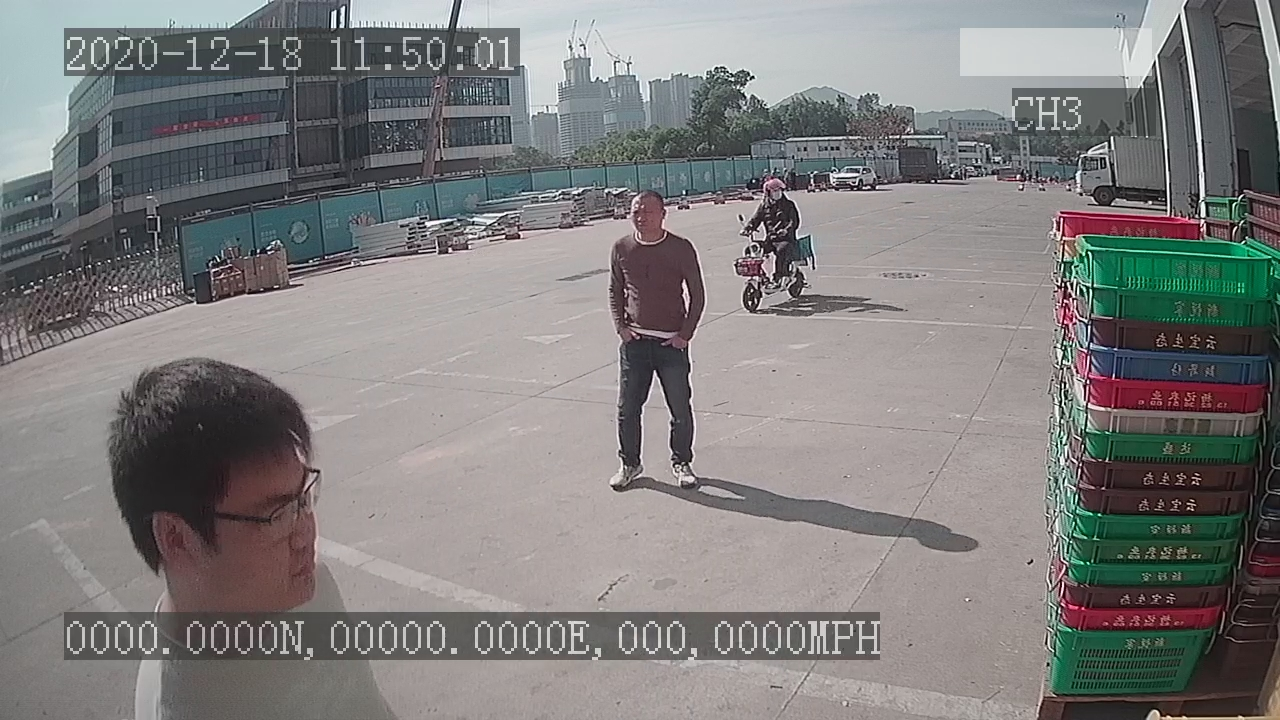person: (606, 188, 711, 497)
